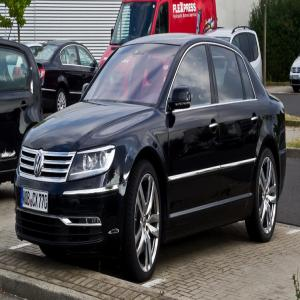Vehicle-registration-plate: (22, 184, 50, 220)
